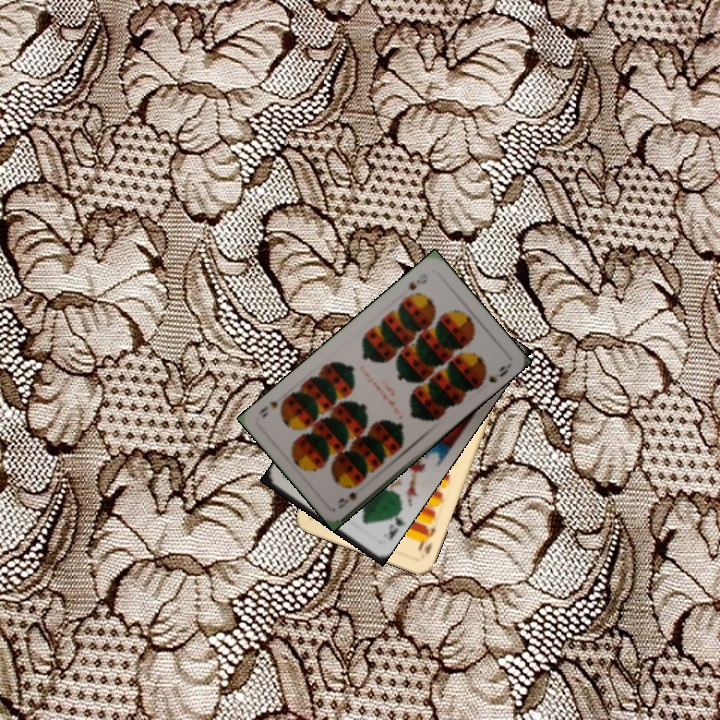E10: (415, 521, 438, 557)
GK: (384, 508, 406, 543)
S9: (405, 269, 431, 293), (333, 488, 360, 511)
